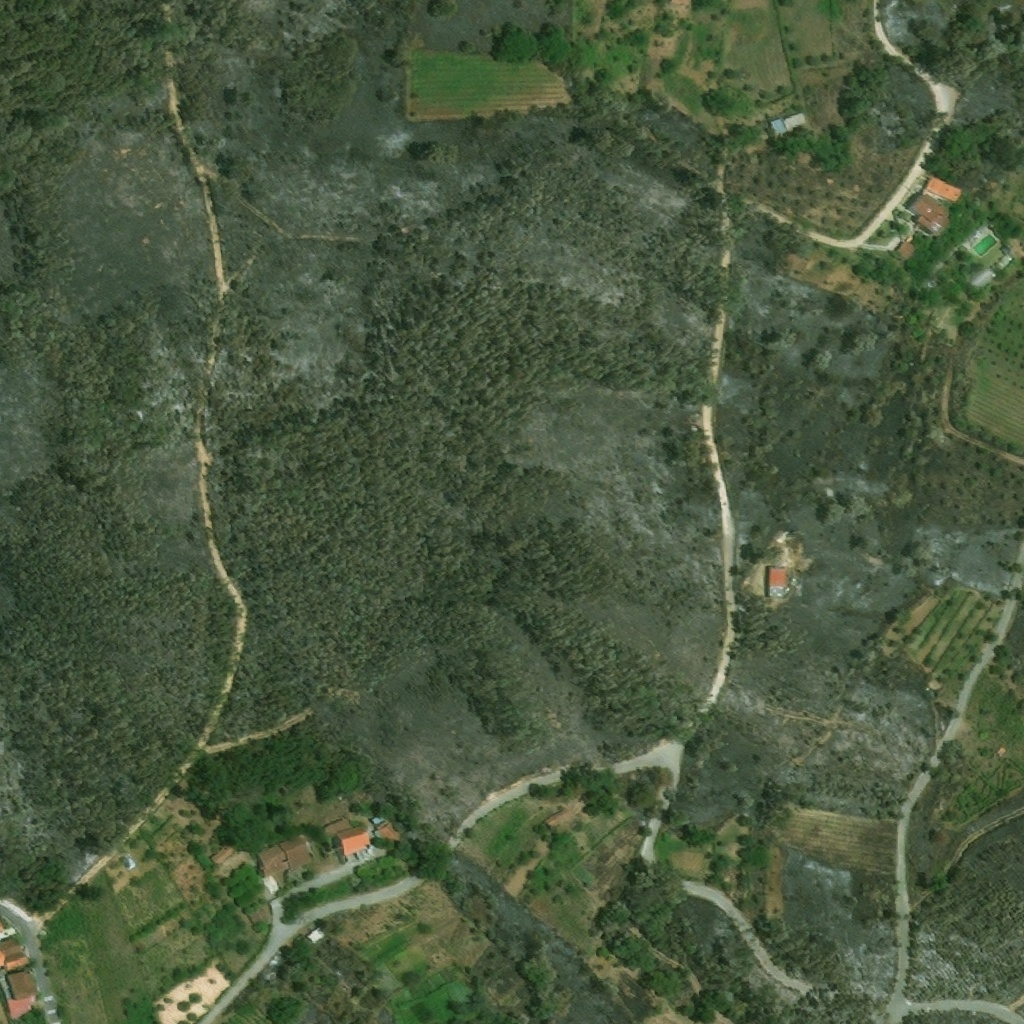0 no-damage: (0, 923, 43, 1020), (253, 832, 314, 878), (324, 817, 372, 856), (909, 193, 951, 235), (922, 175, 965, 204), (767, 111, 811, 136), (370, 812, 401, 841), (768, 567, 791, 603), (890, 240, 919, 262), (210, 842, 236, 866), (245, 903, 268, 928), (544, 808, 572, 827), (305, 924, 329, 946)
4 un-classified: (667, 0, 689, 6)
